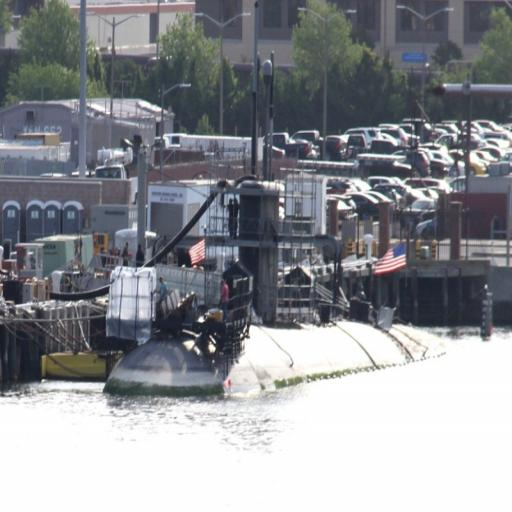submarine: (102, 2, 451, 396)
